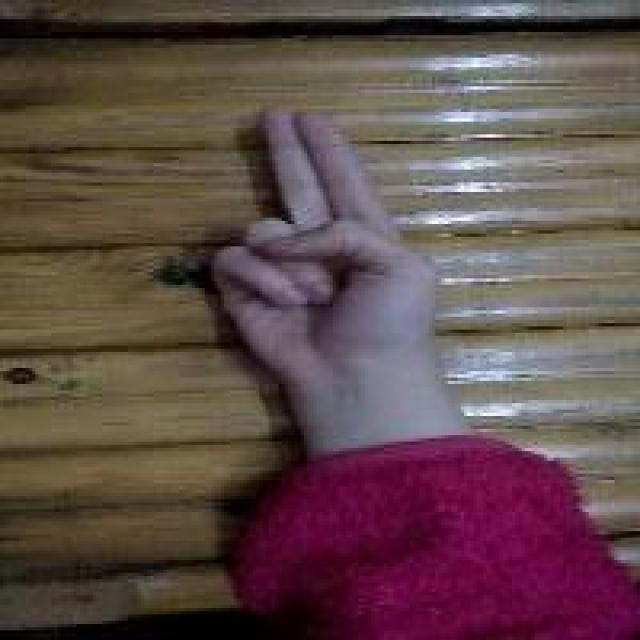U: (205, 96, 448, 381)
